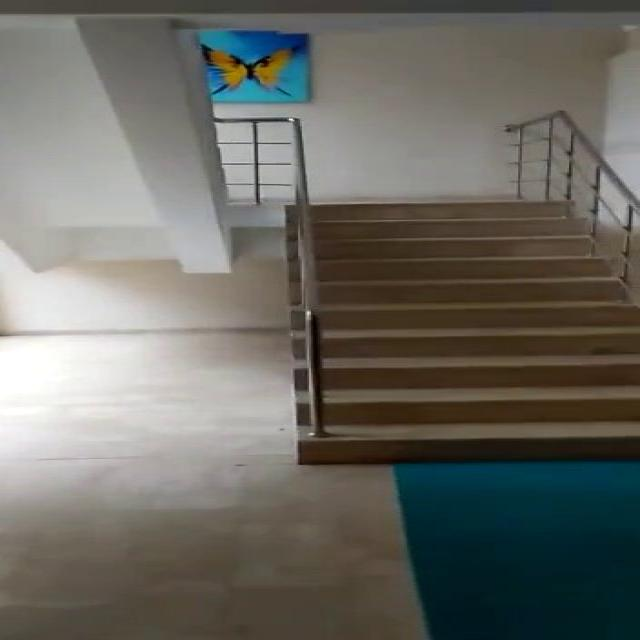upstair: (290, 205, 640, 468)
